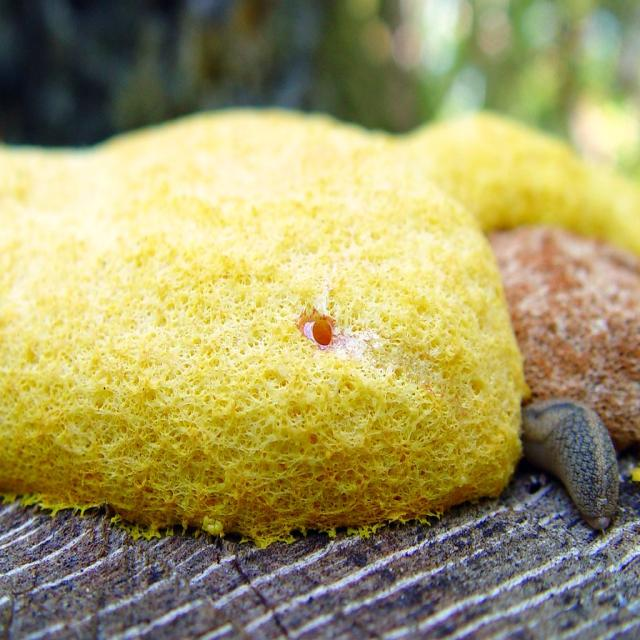Dog_vomit_slime_mold: (0, 74, 640, 567)
